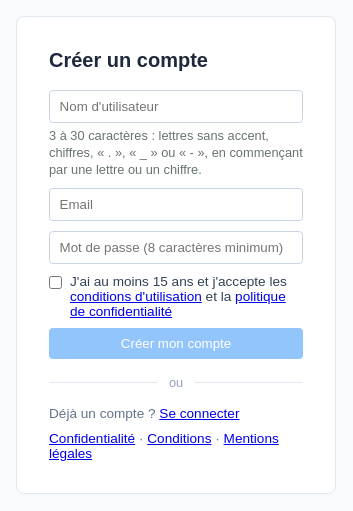
Test case: RegisterPage › exige la case de consentement et envoie acceptTerms: true
In the field labelled "Nom d'utilisateur": (176, 106) left=49, top=90, right=303, bottom=123, type "alex"
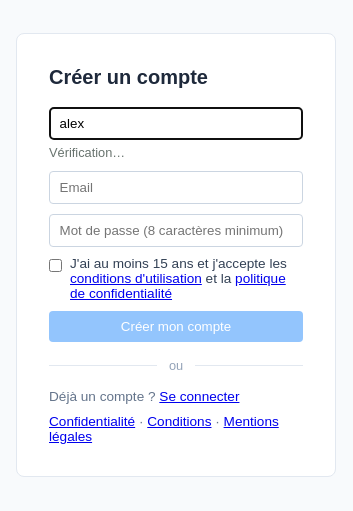
In the field labelled "Email": (176, 188) left=49, top=171, right=303, bottom=204, type "alex@example.com"
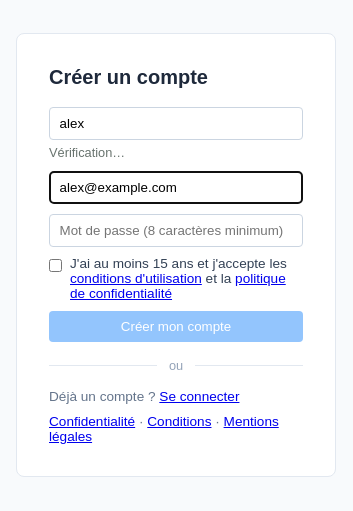
In the password field labelled "Mot de passe": (176, 230) left=49, top=214, right=303, bottom=247, type "motdepasse"
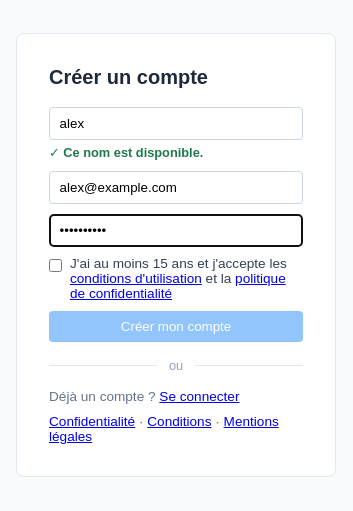
Check: the button "Créer mon compte" is disabled, box left=49, top=311, right=303, bottom=342
Click the checkbox named "J'ai au moins 15 ans et j'accepte les conditions d'utilisation et la politique de confidentialité": (56, 265) left=49, top=259, right=62, bottom=272
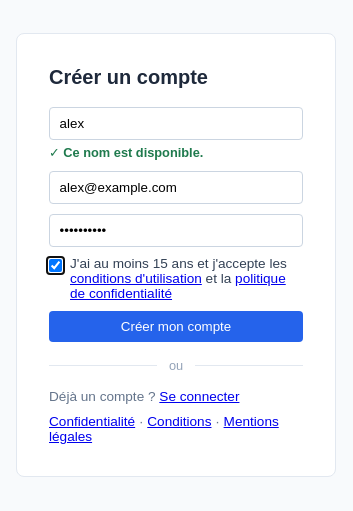
Check: the button "Créer mon compte" is enabled
Click the button "Créer mon compte": (176, 326) left=49, top=311, right=303, bottom=342
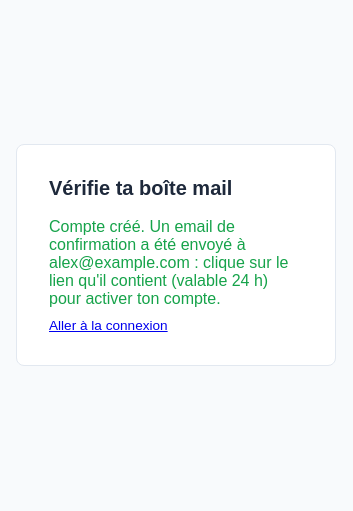
Check: the text "Compte créé" is shown, box left=49, top=218, right=246, bottom=253
